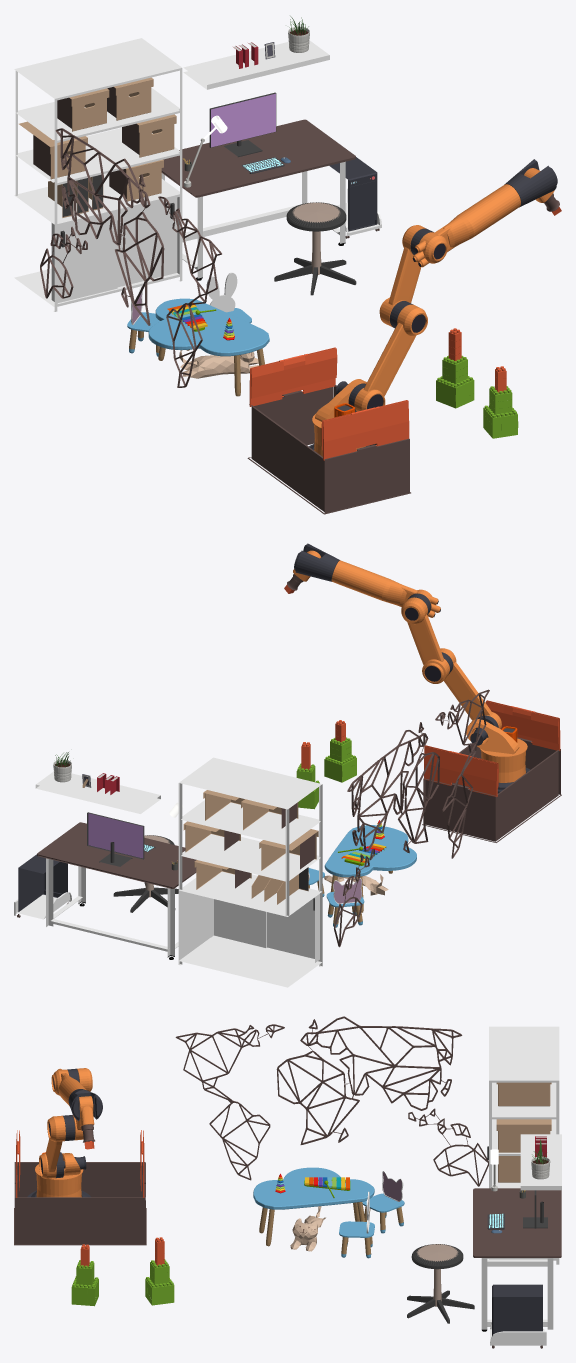
File: Home_exp.glb
The picture shows the model from 3 angles, top to bottom: view 1: azimuth 30°, elevation 25°; view 2: azimuth 150°, elevation 25°; view 3: azimuth 270°, elevation 25°; orthographic projection. The views are drawn at different scales.
Parts seen in each view (by area): view 1: 1_6_1, 1_8_3_1, 1_1, 1_11, 1_6_2, 1_8_2_17, 1_4, 1.8.3.2.1., 1_12, 1_3, 1_2, 1.8.3.3.2. (+9 smaller); view 2: 1_6_1, 1_8_3_1, 1_11, 1_1, 1_6_2, 1_8_2_17, 1_4, 1_3, 1.8.3.3.1., 1_12, 1_7_2, 1.8.3.2.2. (+9 smaller); view 3: 1_8_3_1, 1_11, 1_1, 1_6_1, 1_4, 1_6_2, 1_7_2, 1_2, 1_12, 1_5_1, 1_8_2_17, 1_5_2 (+6 smaller).
Part boxes in pixels (x1,y1,x2,y2): 1_6_1: [14, 38, 182, 311]; 1_8_3_1: [247, 385, 410, 514]; 1_1: [161, 119, 355, 280]; 1_11: [40, 128, 221, 387]; 1_6_2: [19, 77, 176, 201]; 1_8_2_17: [412, 159, 557, 267]; 1_4: [148, 298, 269, 396]; 1.8.3.2.1.: [323, 400, 409, 460]; 1_12: [183, 40, 329, 89]; 1_3: [209, 92, 276, 157]; 1_2: [274, 202, 356, 295]; 1.8.3.3.2.: [251, 348, 337, 398]; 1_6_1: [178, 757, 322, 987]; 1_8_3_1: [422, 737, 561, 842]; 1_11: [334, 689, 489, 947]; 1_1: [37, 822, 196, 959]; 1_6_2: [183, 790, 318, 889]; 1_8_2_17: [294, 543, 440, 617]; 1_4: [324, 825, 416, 912]; 1_3: [87, 812, 144, 866]; 1.8.3.3.1.: [424, 746, 497, 797]; 1_12: [35, 771, 160, 813]; 1_7_2: [18, 854, 67, 911]; 1.8.3.2.2.: [485, 701, 558, 743]; 1_8_3_1: [14, 1162, 146, 1245]; 1_11: [175, 1016, 488, 1186]; 1_1: [473, 1188, 561, 1331]; 1_6_1: [487, 1026, 559, 1264]; 1_4: [253, 1167, 374, 1246]; 1_6_2: [496, 1082, 551, 1182]; 1_7_2: [492, 1284, 542, 1335]; 1_2: [407, 1244, 474, 1323]; 1_12: [520, 1134, 561, 1190]; 1_5_1: [362, 1171, 404, 1233]; 1_8_2_17: [51, 1068, 102, 1120]; 1_5_2: [339, 1191, 374, 1258].
Size of the model in its own units: 2.48 by 1.79 by 3.98.
